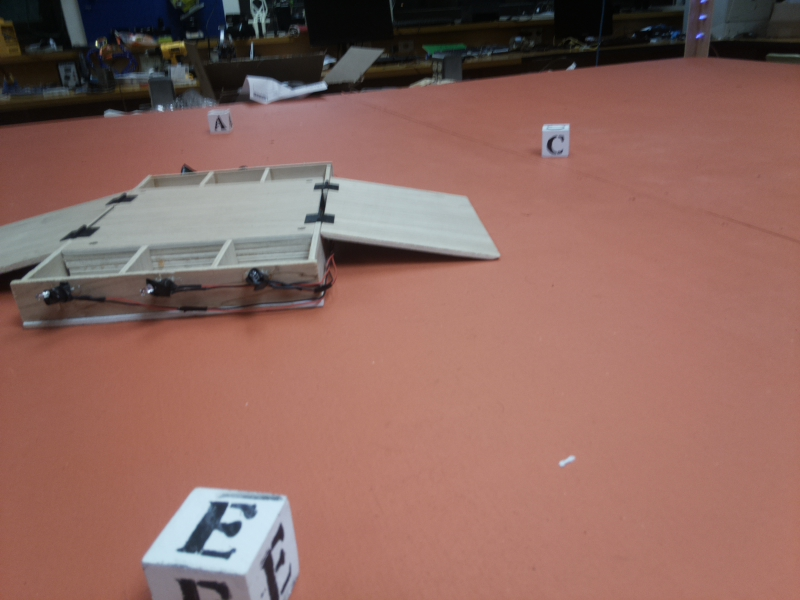blockA: (206, 108, 234, 136)
blockC: (539, 121, 575, 159)
blockE: (128, 485, 298, 600)
corner: (683, 2, 717, 56)
side: (7, 269, 328, 333), (137, 160, 342, 175)
slope: (319, 176, 502, 270), (4, 190, 125, 276)
